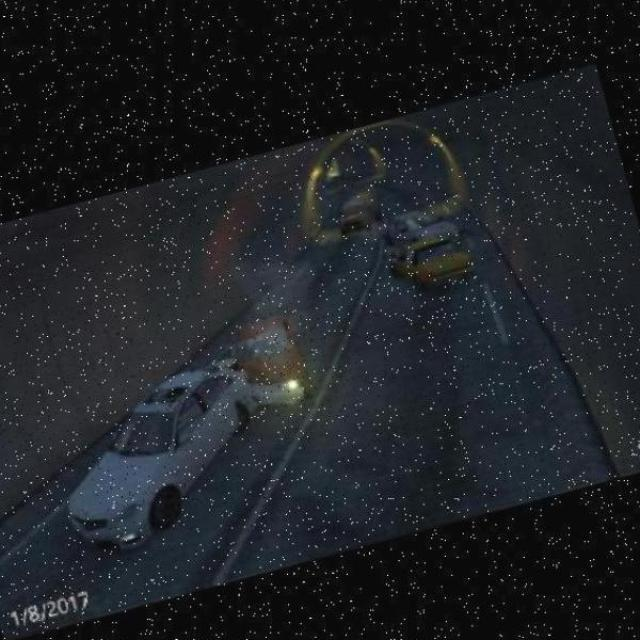accident: (18, 302, 344, 566)
